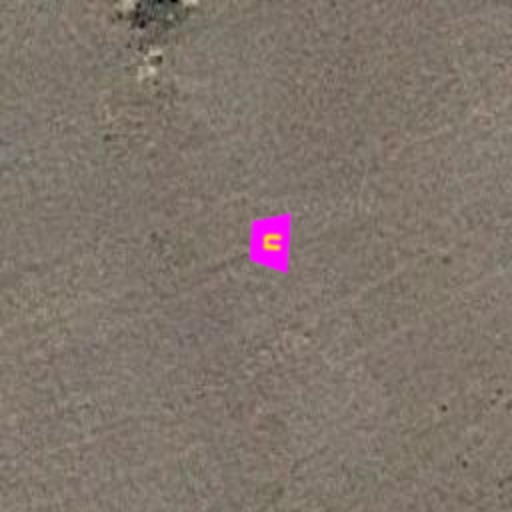trapezoid: (236, 208, 304, 276)
